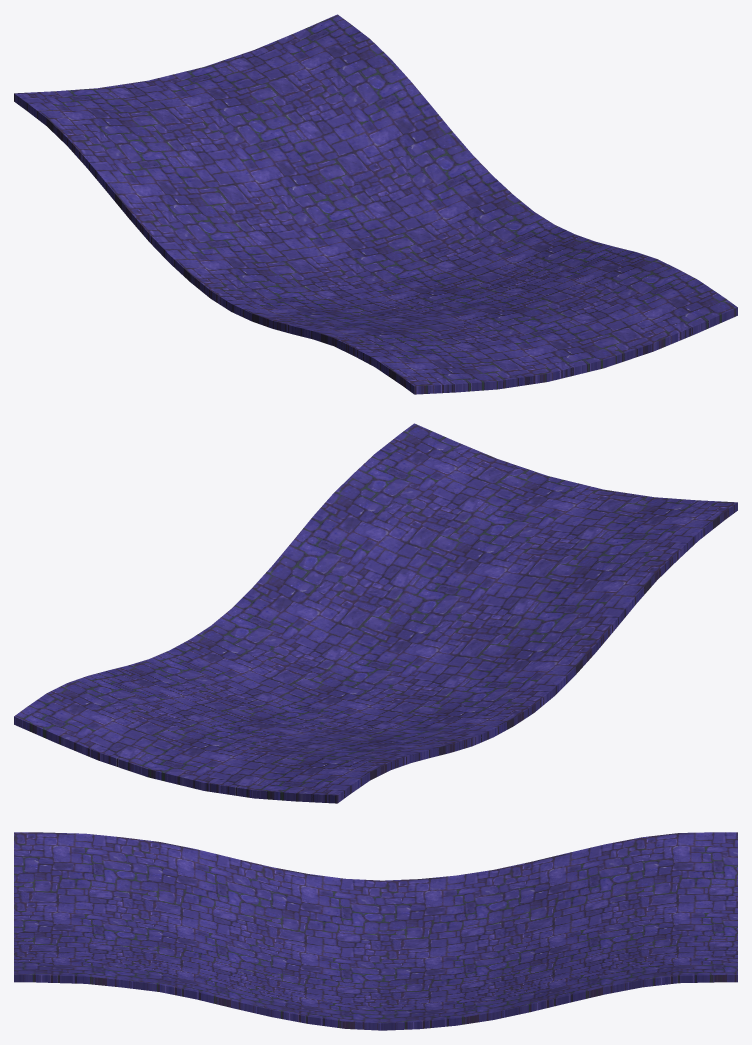
File: G04_Hill_v3.obj
3 renders of one model, top to bottom at view 1: azimuth 30°, elevation 25°; view 2: azimuth 150°, elevation 25°; view 3: azimuth 270°, elevation 25°, orthographic. The views are drawn at different scales.
Visible parts, largest first — view 1: G04_Valley_V1; view 2: G04_Valley_V1; view 3: G04_Valley_V1.
Part boxes in pixels (x1,y1,x2,y2): G04_Valley_V1: (14,14,737,394); G04_Valley_V1: (14,423,737,803); G04_Valley_V1: (14,832,737,1030).
Bounding box in the file's own units: 28 × 6.74 × 60.
